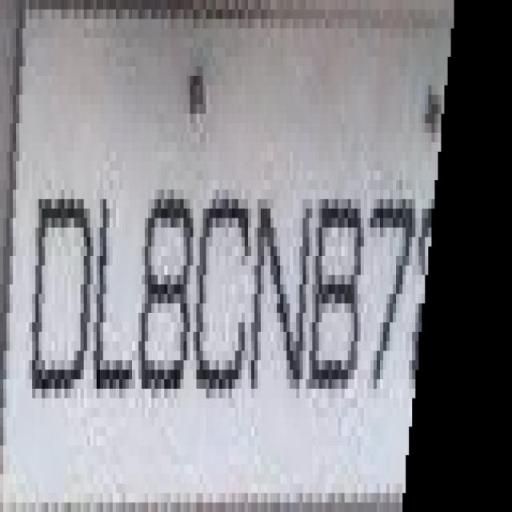number plate: (6, 48, 435, 484)
